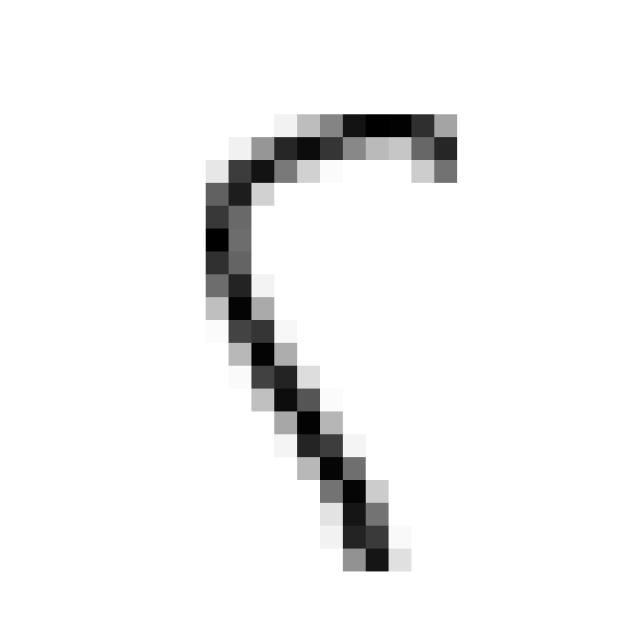2 -two-: (185, 85, 479, 600)
